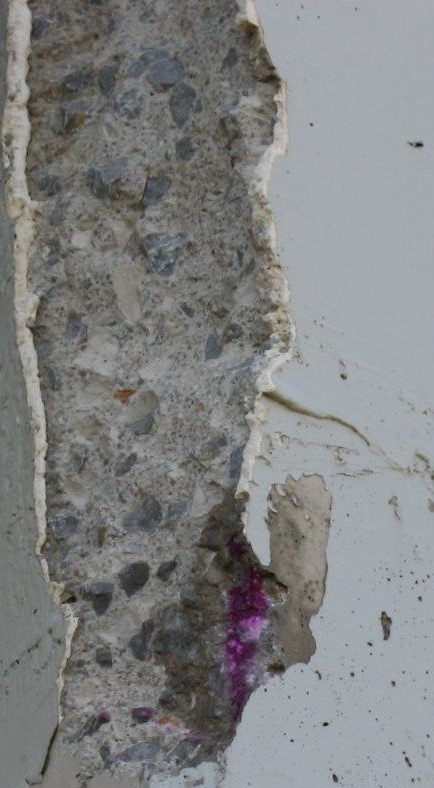Spalling: (1, 1, 334, 788)
